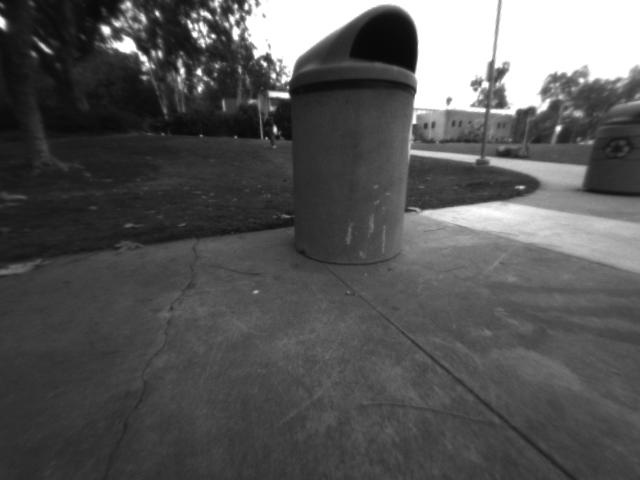trashcan: (287, 2, 417, 266)
